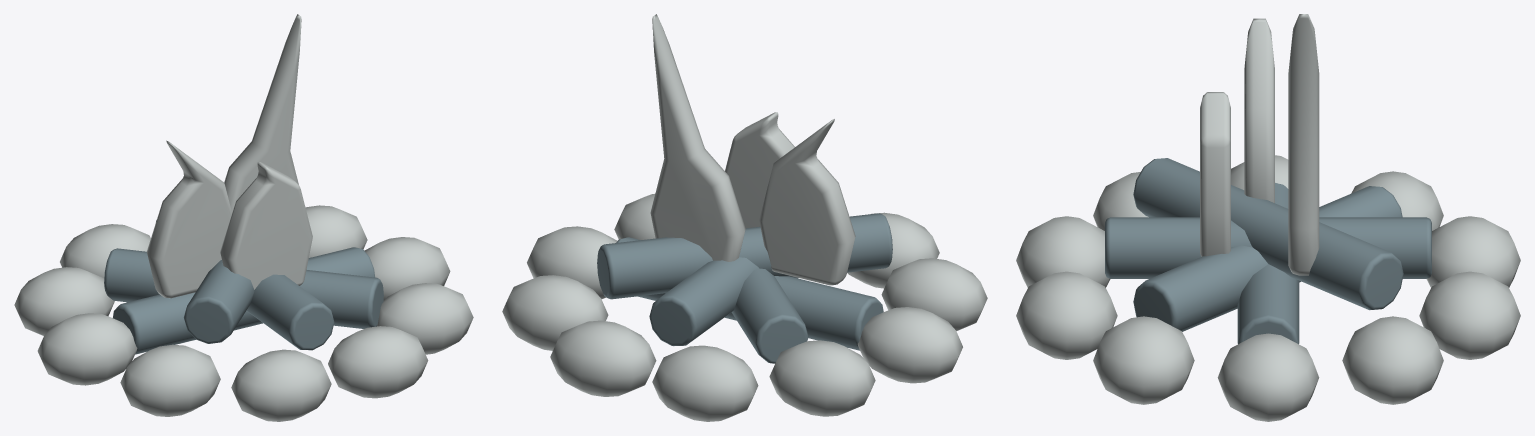
Rendered from campfire.glb.
3 renders of one model, left to right at view 1: azimuth 30°, elevation 25°; view 2: azimuth 150°, elevation 25°; view 3: azimuth 270°, elevation 25°, orthographic. The views are drawn at different scales.
Parts seen in each view (by area): view 1: flame_0, flame_2, log_01, ring_stone_02, ring_stone_04, ring_stone_03, ring_stone_05, flame_1, log_00, ring_stone_01, ring_stone_06, log_02 (+4 smaller); view 2: flame_1, flame_0, log_03, ring_stone_08, ring_stone_06, ring_stone_07, ring_stone_05, log_02, ring_stone_09, ring_stone_04, log_00, log_01 (+4 smaller); view 3: log_03, log_02, log_01, flame_1, ring_stone_01, ring_stone_09, ring_stone_00, ring_stone_02, ring_stone_08, flame_0, flame_2, ring_stone_03 (+5 smaller).
Part boxes in pixels (x1,y1,x2,y2): flame_0: (147, 140, 231, 298); flame_2: (220, 162, 312, 289); log_01: (104, 248, 383, 328); ring_stone_02: (328, 326, 428, 398); ring_stone_04: (120, 344, 220, 416); ring_stone_03: (231, 349, 331, 421); ring_stone_05: (37, 313, 137, 385); flame_1: (224, 14, 301, 212); log_00: (113, 247, 375, 354); ring_stone_01: (377, 283, 473, 354); ring_stone_06: (14, 267, 114, 335); log_02: (156, 220, 334, 350); flame_1: (650, 14, 745, 261); flame_0: (759, 119, 855, 285); log_03: (597, 213, 892, 299); ring_stone_08: (550, 320, 656, 396); ring_stone_06: (769, 340, 875, 416); ring_stone_07: (652, 345, 758, 421); ring_stone_05: (857, 307, 962, 383); log_02: (649, 257, 758, 346); ring_stone_09: (502, 275, 608, 350); ring_stone_04: (881, 258, 987, 330); log_00: (616, 237, 883, 350); log_01: (731, 268, 808, 363); log_03: (1133, 158, 1403, 310); log_02: (1105, 217, 1431, 278); log_01: (1133, 186, 1402, 331); flame_1: (1288, 14, 1319, 275); ring_stone_01: (1093, 316, 1194, 404); ring_stone_09: (1342, 316, 1443, 404); ring_stone_00: (1217, 333, 1319, 421); ring_stone_02: (1016, 271, 1117, 359); ring_stone_08: (1419, 271, 1520, 359); flame_0: (1244, 18, 1274, 202); flame_2: (1200, 92, 1230, 256); ring_stone_03: (1016, 216, 1110, 287).
Bounding box in the file's own units: 1.24 × 0.8759 × 1.14.
